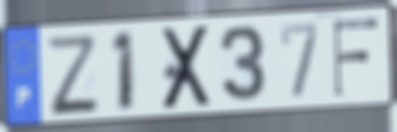1: (109, 28, 139, 114)
3: (216, 23, 269, 105)
7: (278, 19, 321, 102)
F: (331, 15, 381, 100)
X: (160, 22, 216, 114)
Z: (43, 32, 102, 118)
